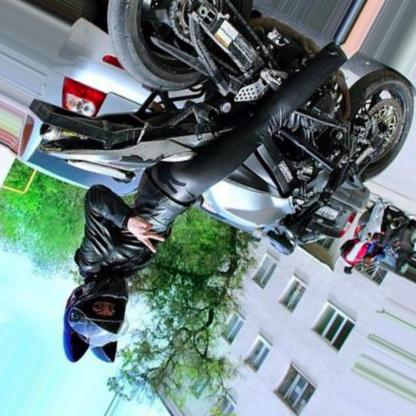with helmet: (60, 273, 137, 350)
